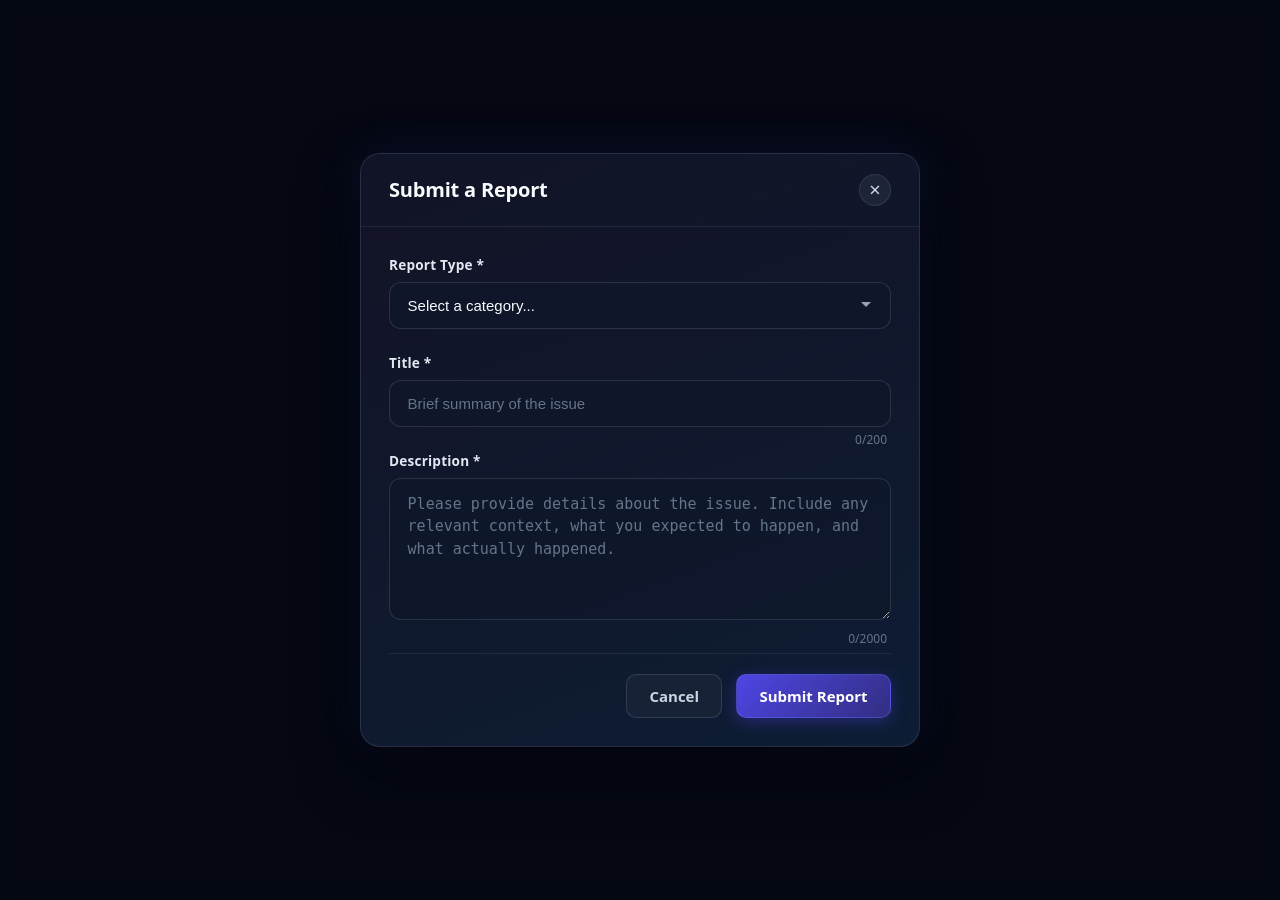
it: ReportModal › Form Submission › shows success message after submission
Select "Bug Report" in the dropdown labelled "Report Type *" at (640, 306), box [389,282,891,329]
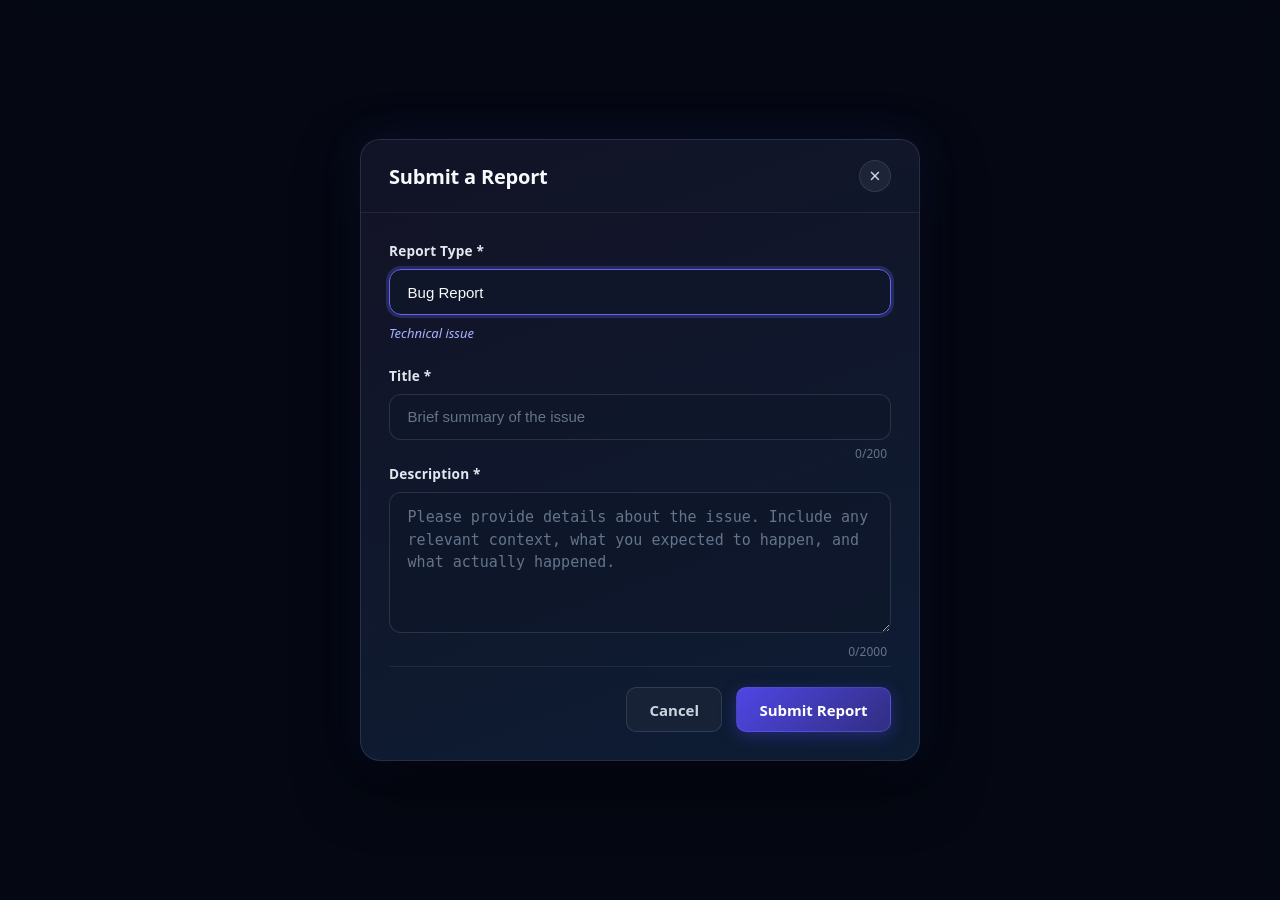
Type "Great Feature" into the field labelled "Title *".
click(640, 417); type("Great Feature")  # box [389,394,891,440]
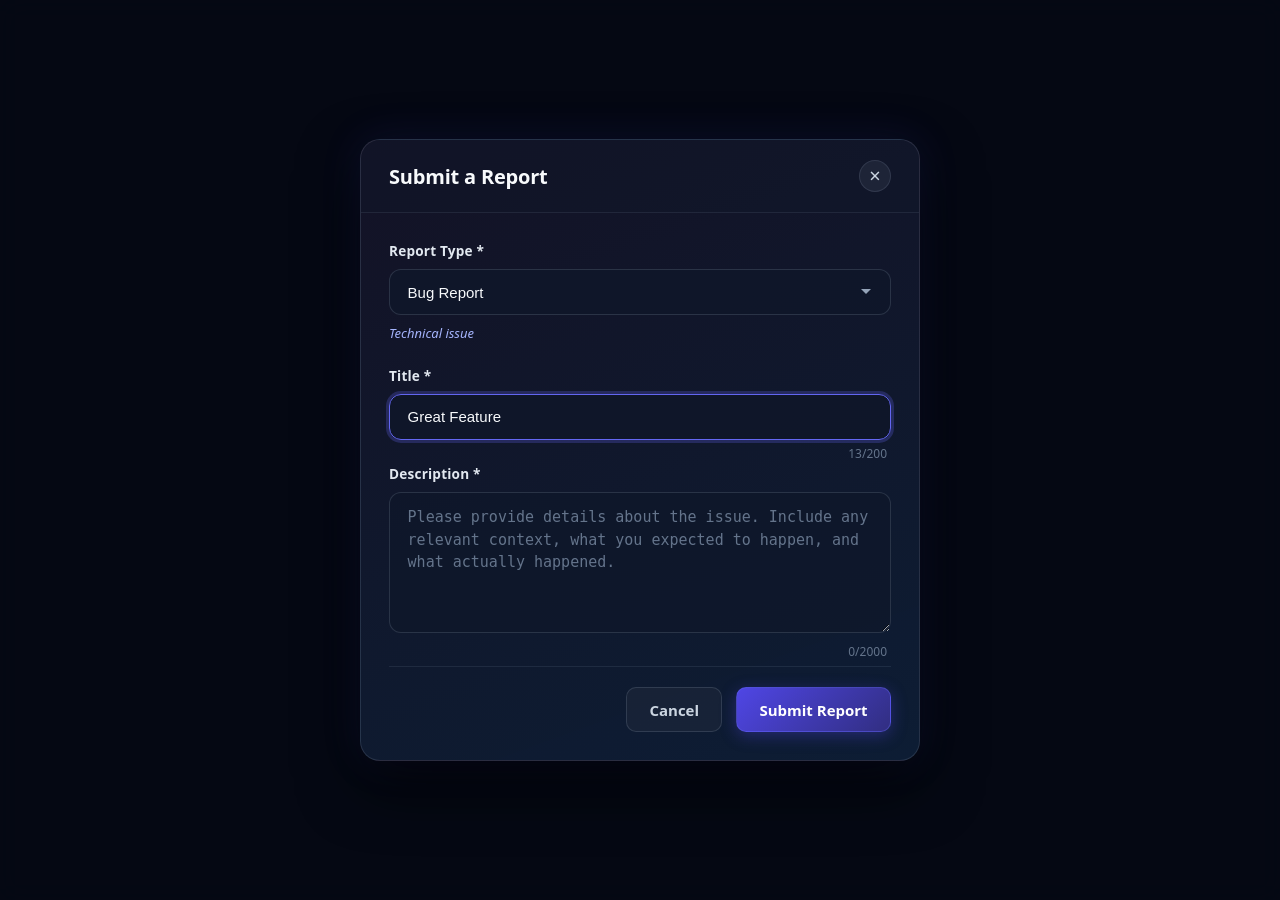
Type "I really like this feature of the application." into the text box labelled "Description *".
click(640, 563); type("I really like this feature of the application.")  # box [389,492,891,634]
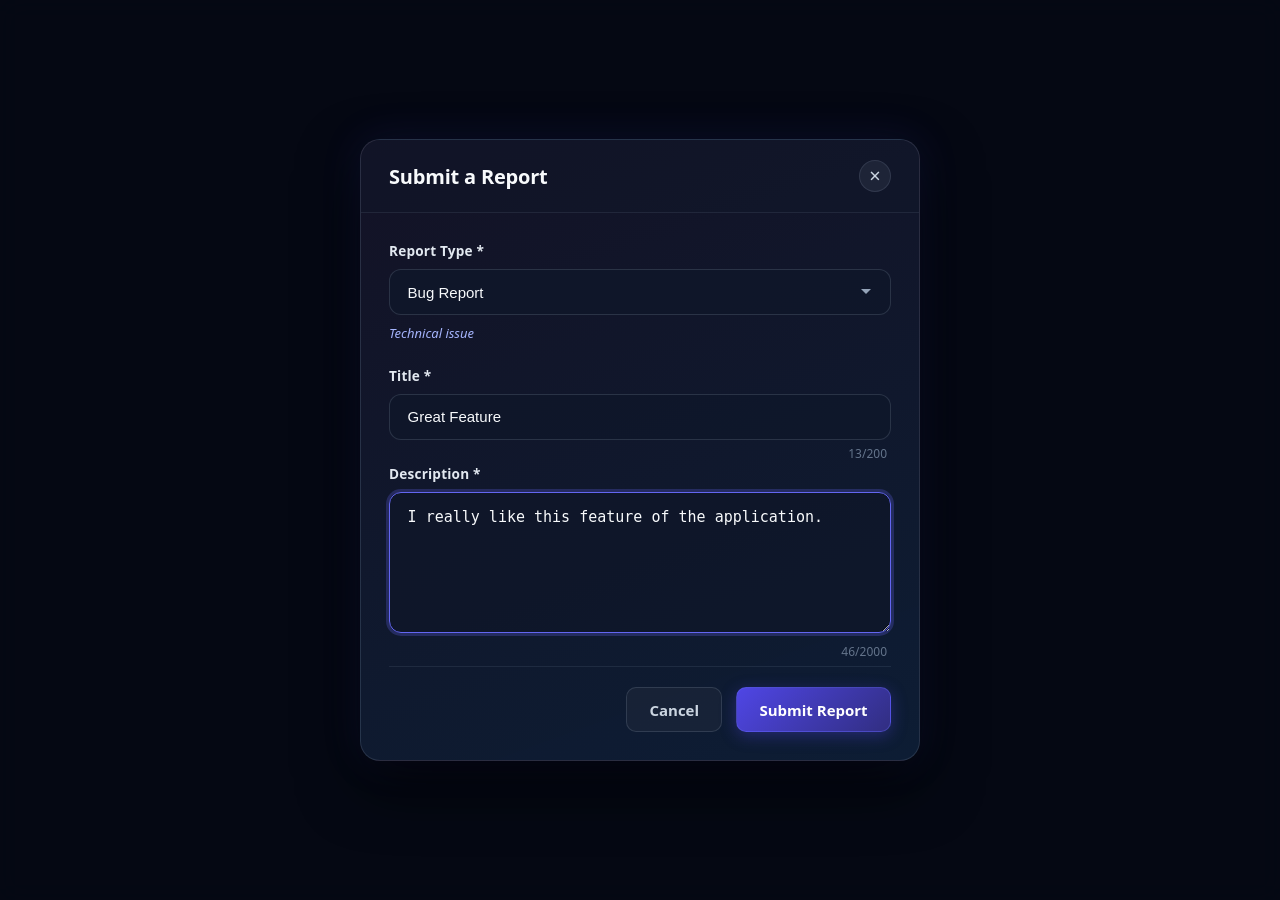
Click the button "Submit Report".
click(814, 710)  # box [736,687,891,732]
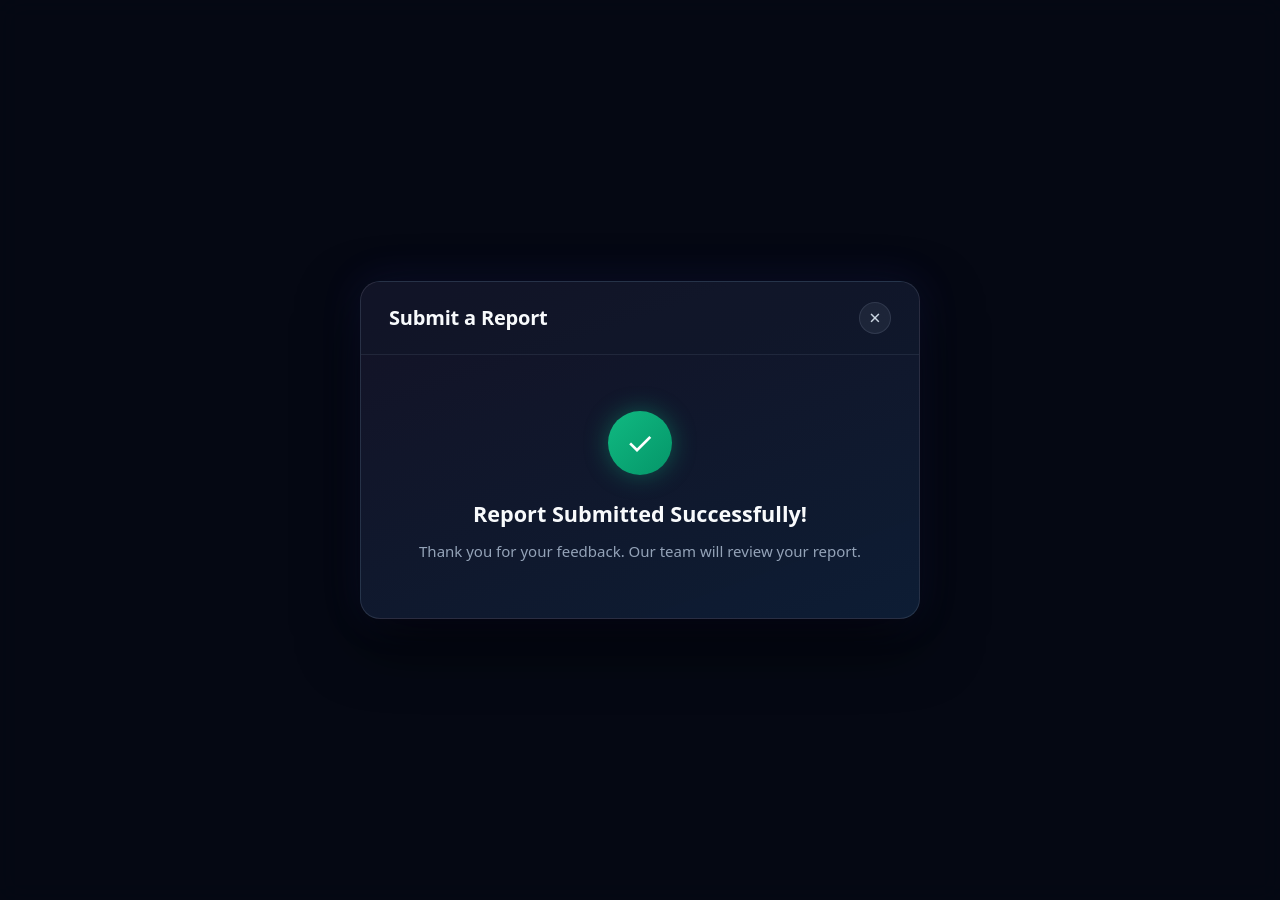
Now the heading "Report Submitted Successfully!" is shown, box [473,499,807,528]
